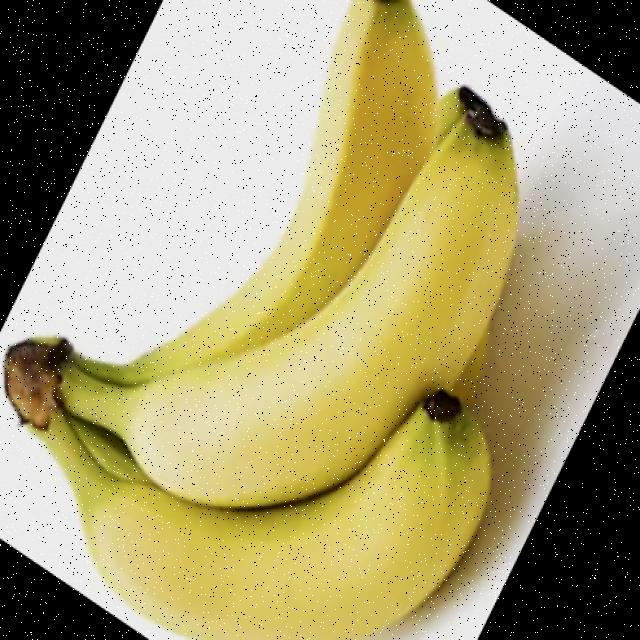god quality banana: (5, 2, 520, 638)
